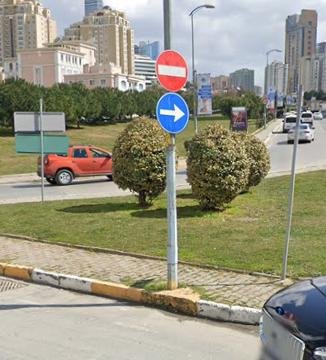turnright: (156, 89, 195, 136)
